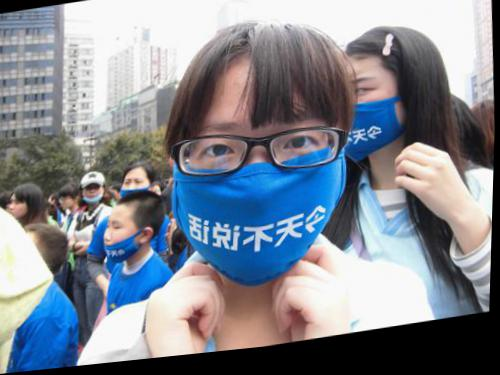NONE: (327, 75, 401, 174), (8, 196, 29, 221), (60, 195, 77, 213)
OK: (182, 99, 353, 280)
WRONG: (102, 215, 150, 266), (121, 175, 153, 209), (85, 184, 108, 206)
